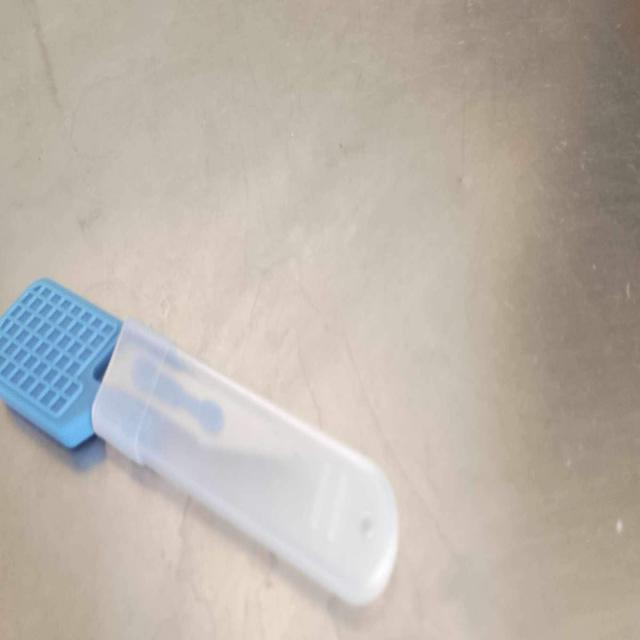General: (2, 275, 125, 452)
Sharps: (2, 275, 401, 607)
